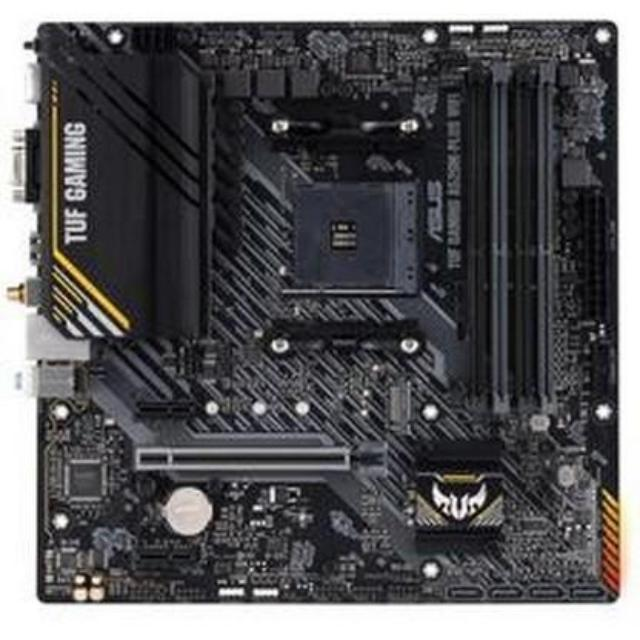Mainboard: (34, 24, 626, 604)
